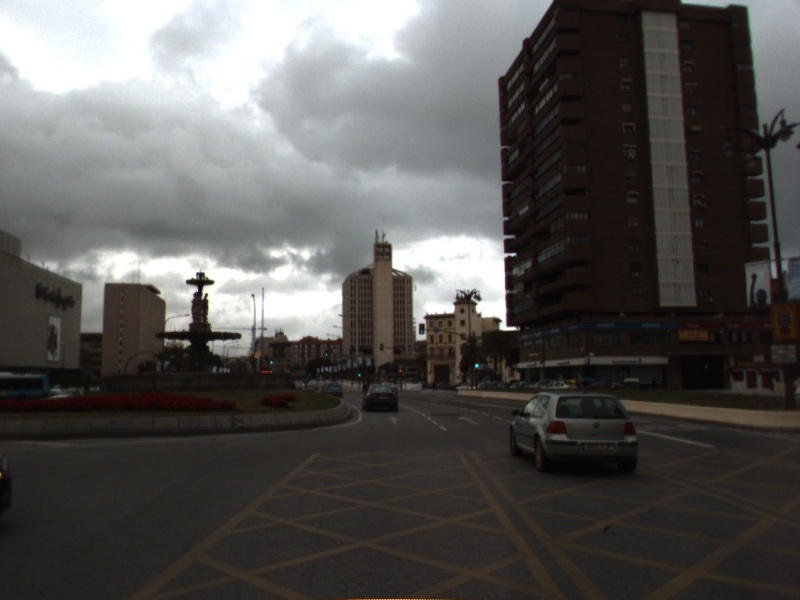STRAIGHT: (455, 414, 482, 427), (384, 414, 404, 426)
